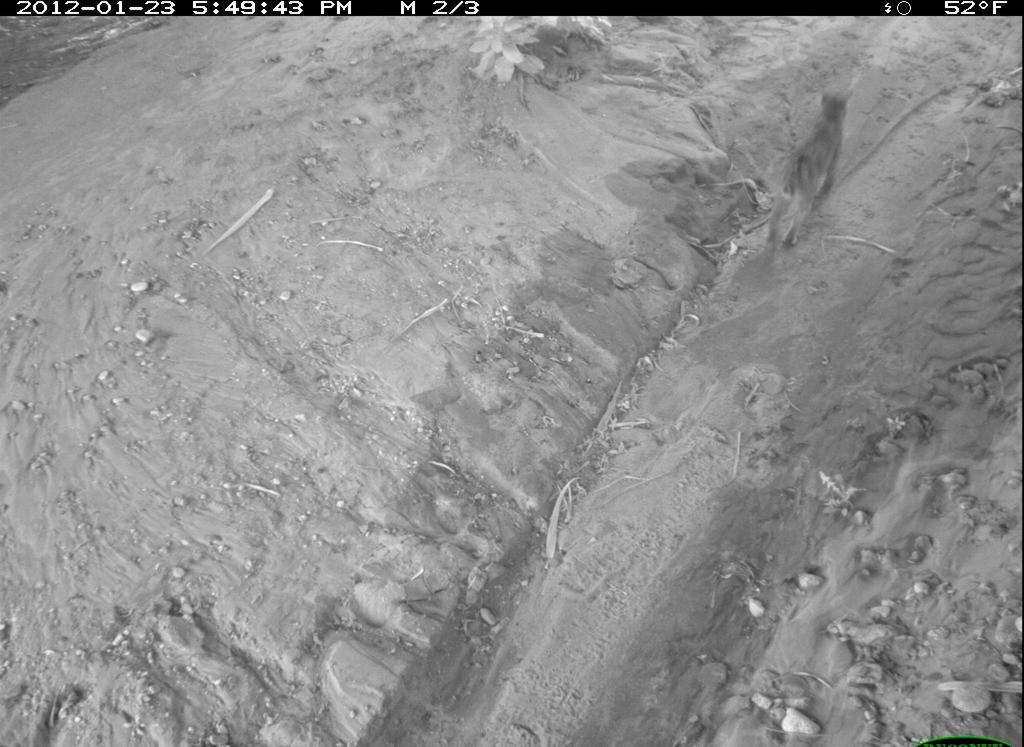bobcat: (765, 97, 865, 263)
